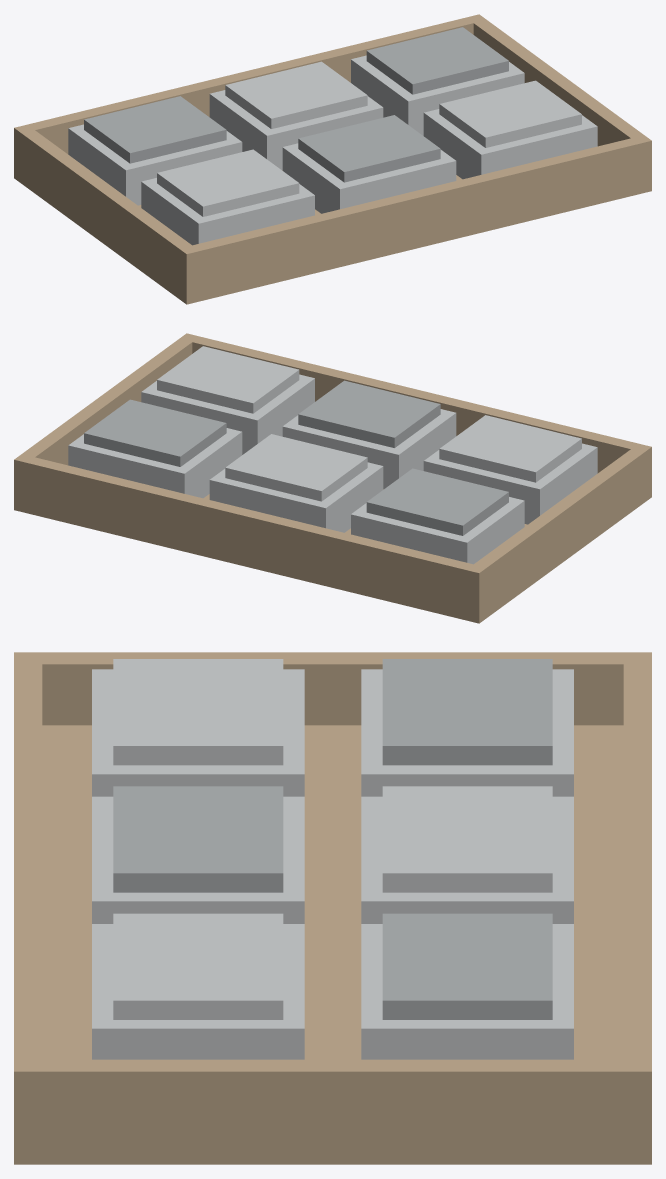
The model's file is prop-pewter-ingot-tray.fbx.
The picture shows the model from 3 angles, top to bottom: view 1: azimuth 30°, elevation 25°; view 2: azimuth 150°, elevation 25°; view 3: azimuth 270°, elevation 25°; orthographic projection. The views are drawn at different scales.
Visible parts, largest first — view 1: prop-pewter-ingot-tray; view 2: prop-pewter-ingot-tray; view 3: prop-pewter-ingot-tray.
Boxes of the visible parts, <box> form: prop-pewter-ingot-tray: <box>14,14,651,304</box>; prop-pewter-ingot-tray: <box>14,333,651,623</box>; prop-pewter-ingot-tray: <box>14,652,651,1164</box>.
Bounding box in the file's own units: 28 × 3.9 × 18.
